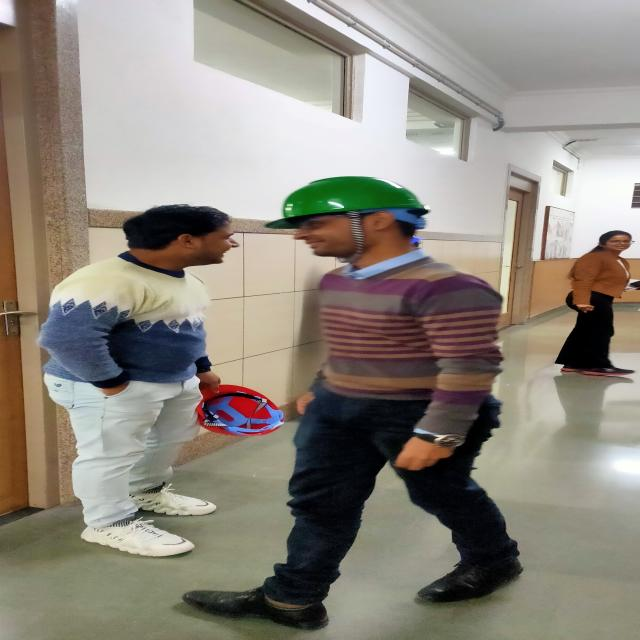no jacket: (200, 175, 526, 630)
unsafe: (48, 202, 244, 558), (563, 228, 636, 378)
